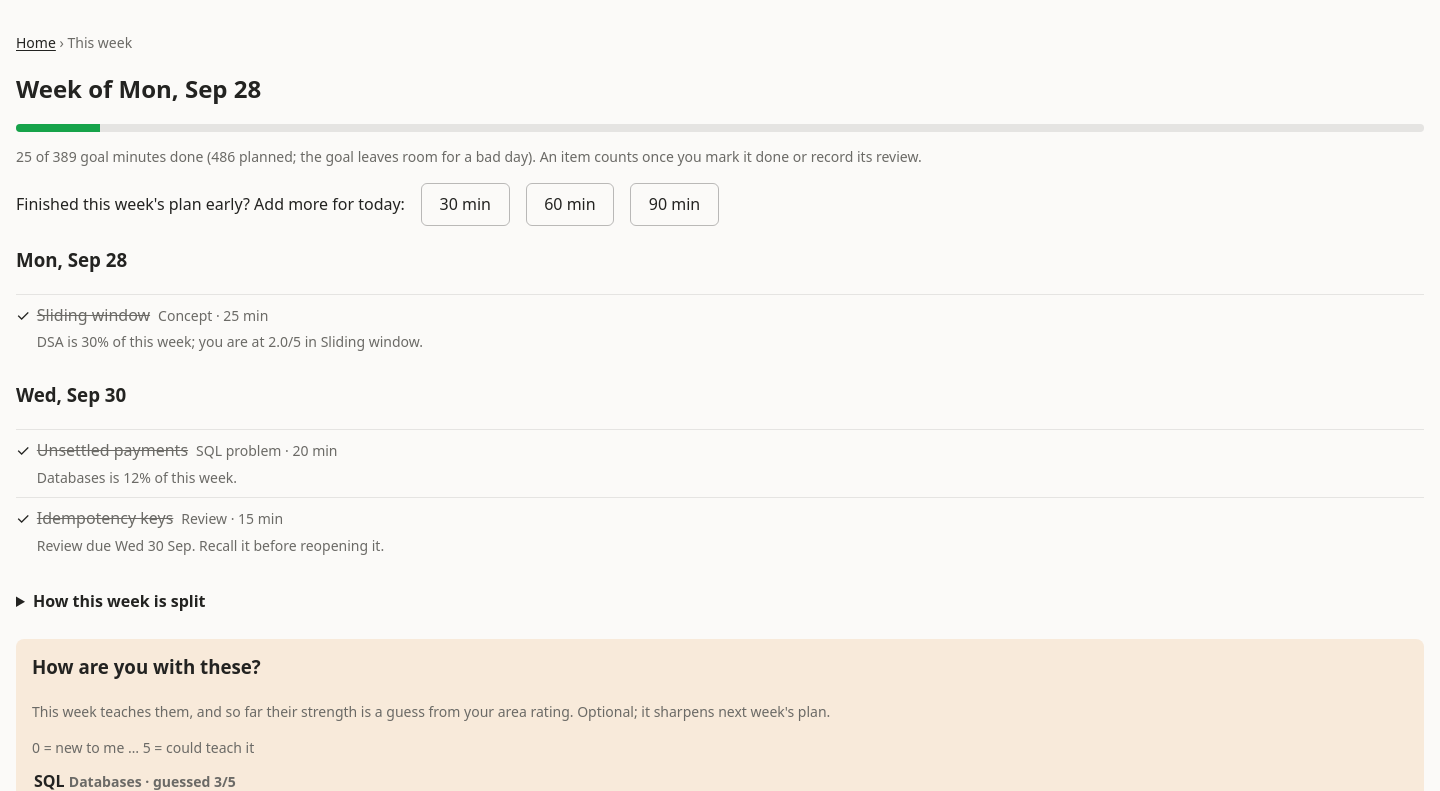
Test: WeekPage › reloads an out-of-date week when more is refused, and keeps saying why
Step 1. Click the button "30 min" → (465, 204), box [421, 183, 510, 226]
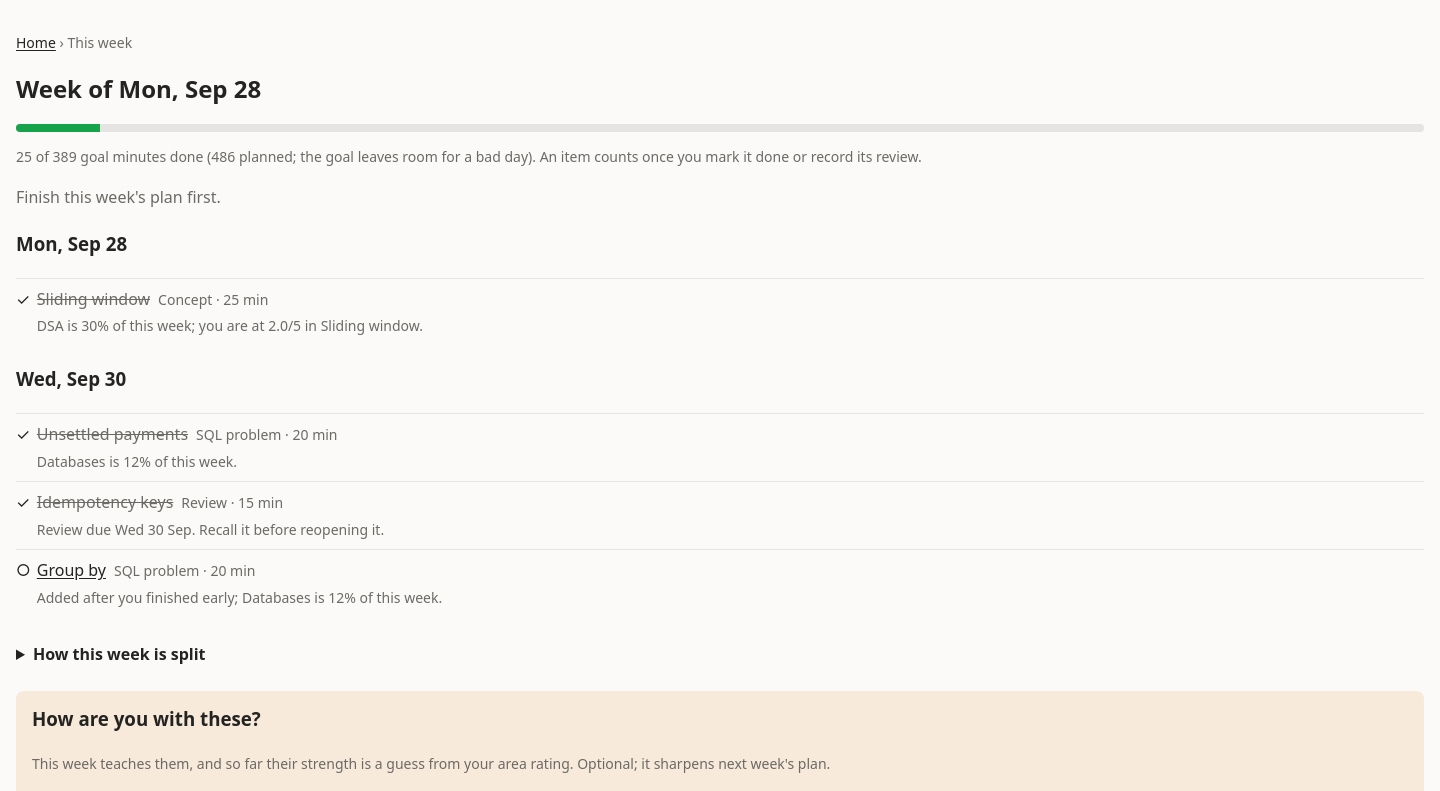
Expected: the link "Group by" is shown, [37, 558, 106, 584]
Expected: the message reads "Finish this week's plan first.", [16, 186, 221, 208]
